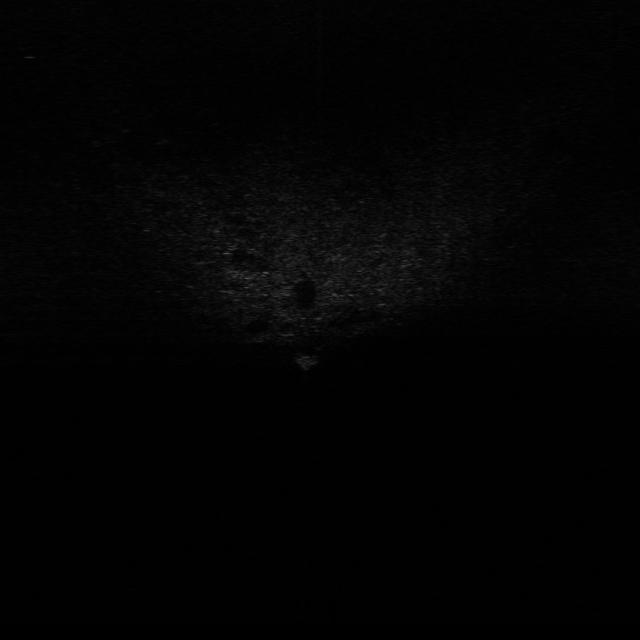cube: (288, 349, 328, 374)
